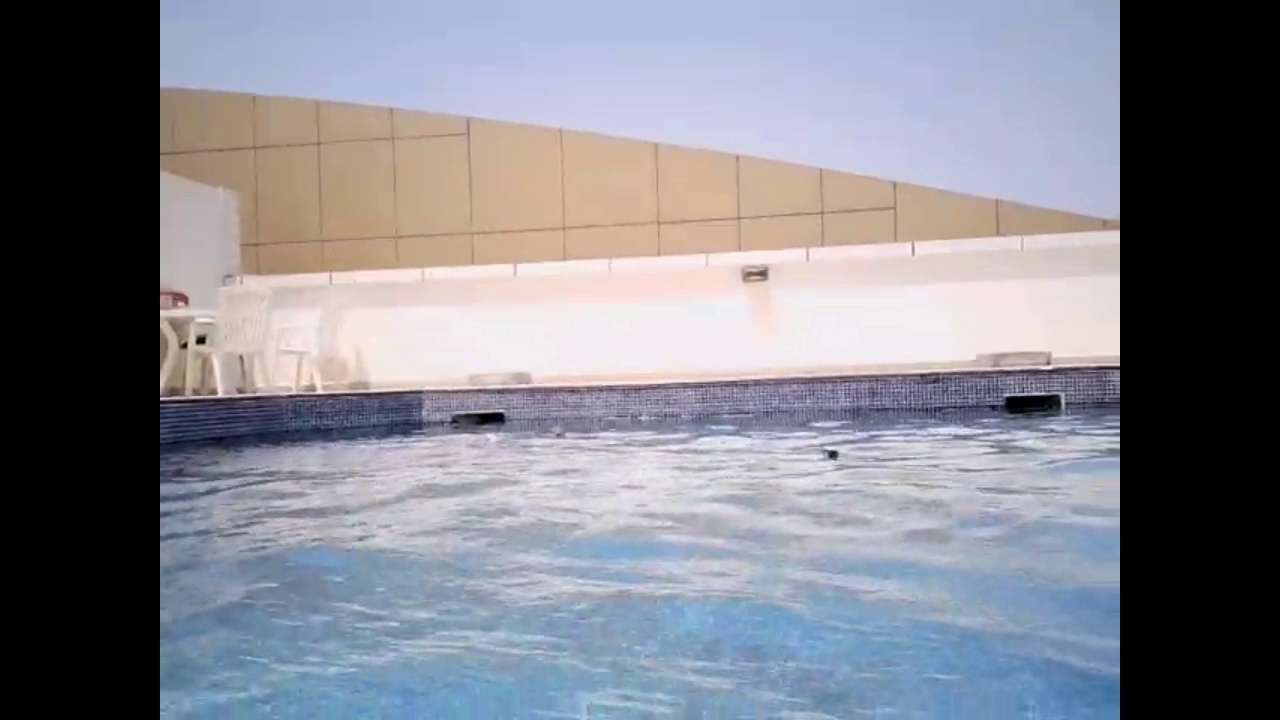debris: (816, 444, 846, 464), (549, 427, 566, 440)
